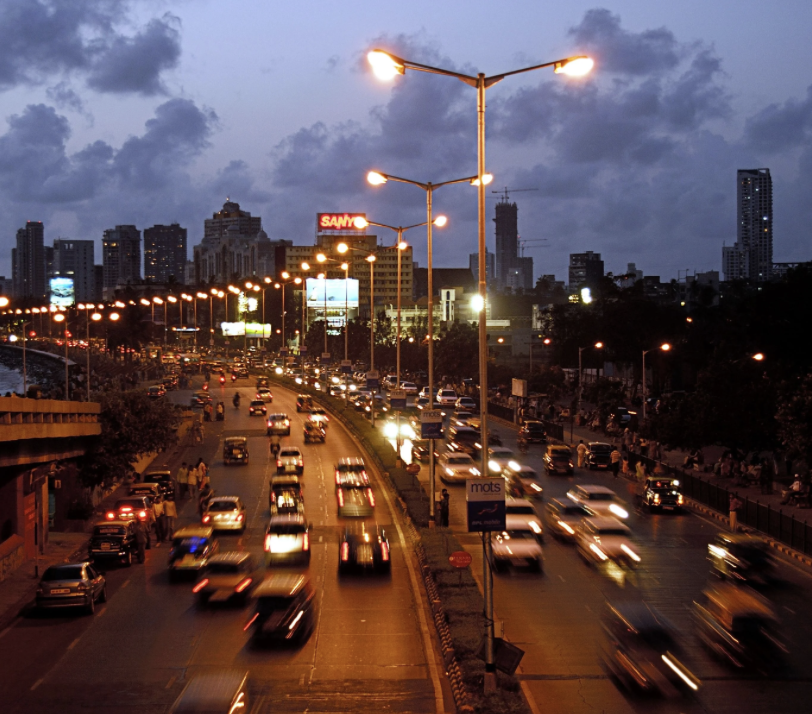HPS: (361, 43, 424, 95), (545, 49, 607, 89), (360, 164, 404, 199), (470, 167, 498, 196), (351, 214, 375, 233), (336, 242, 353, 260), (315, 252, 328, 264)
